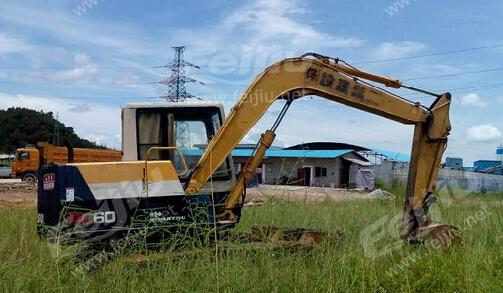excavator: (41, 51, 464, 269)
